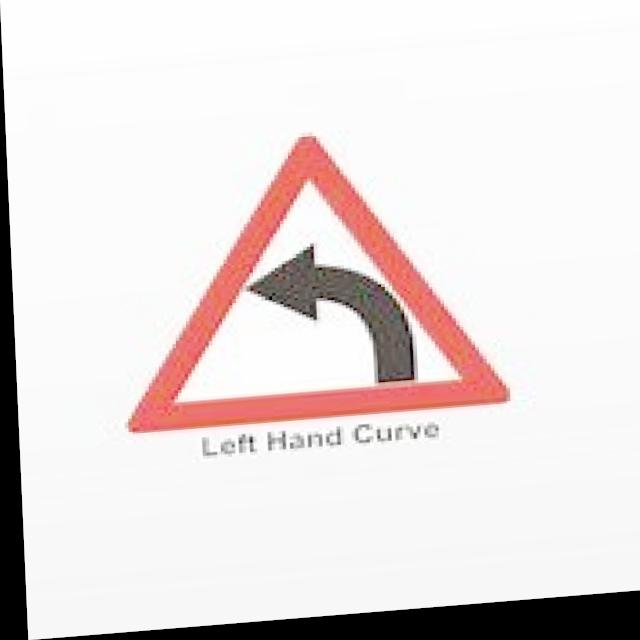LEFT_HAND_CURVE: (111, 123, 508, 440)
